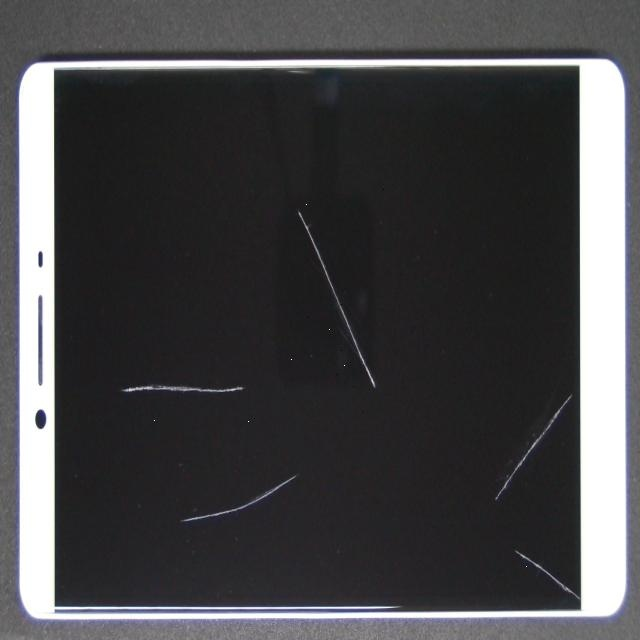scratch: (216, 261, 640, 640), (101, 2, 481, 420), (0, 203, 217, 635)
